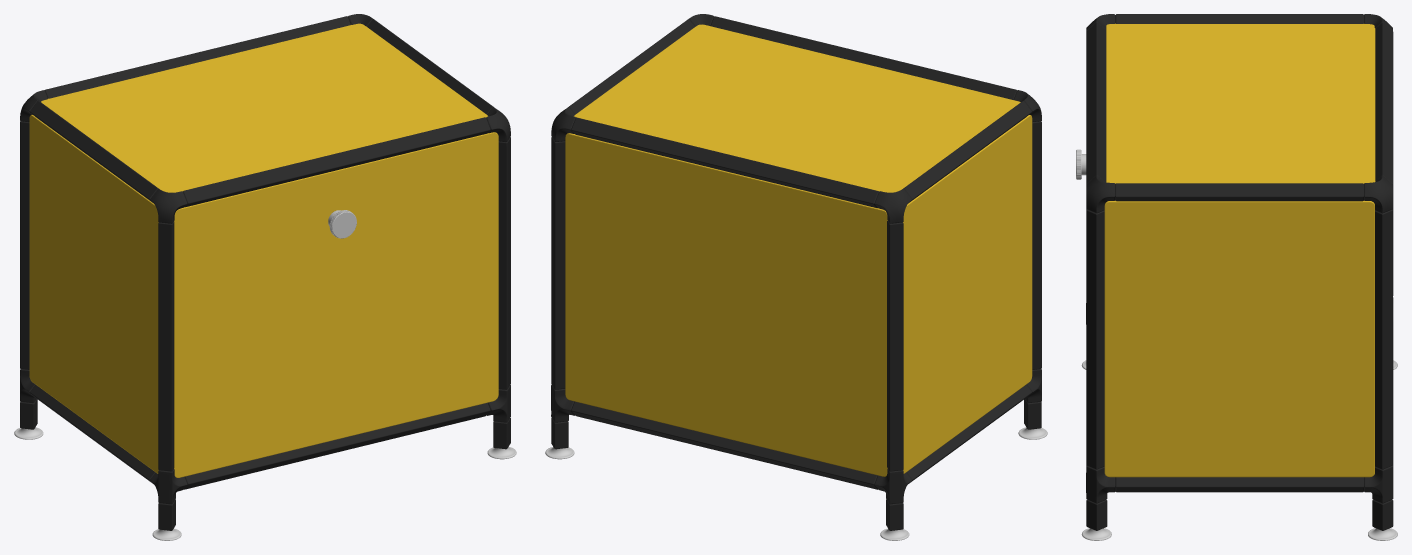
3 renders of one model, left to right at view 1: azimuth 30°, elevation 25°; view 2: azimuth 150°, elevation 25°; view 3: azimuth 270°, elevation 25°, orthographic. The views are drawn at different scales.
Visible parts, largest first — view 1: 479x329x374; view 2: 479x329x374; view 3: 479x329x374.
Boxes of the visible parts, bbox=[...] form: 479x329x374: bbox=[14, 14, 516, 540]; 479x329x374: bbox=[545, 14, 1047, 540]; 479x329x374: bbox=[1076, 14, 1397, 540].
Bounding box in the file's own units: 0.5689 × 0.5132 × 0.4258.
